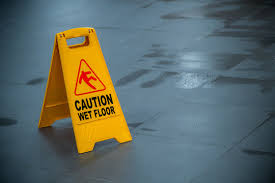Wet-floor: (131, 0, 275, 101)
